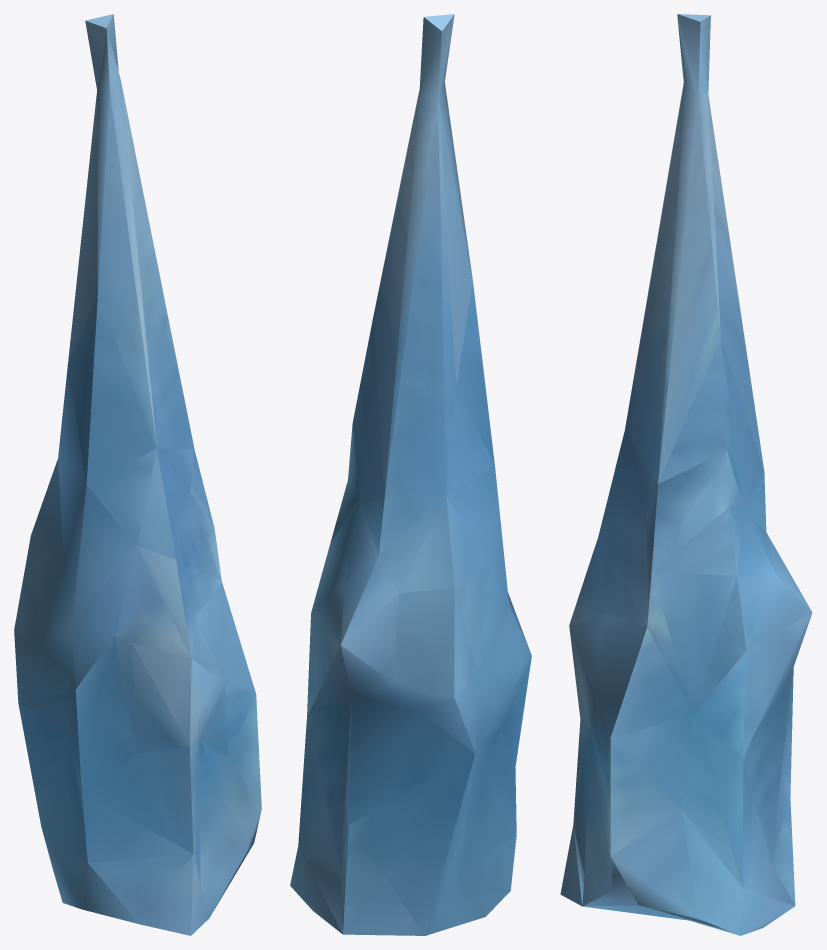
File: pincho_escarcha_1.glb
3 renders of one model, left to right at view 1: azimuth 30°, elevation 25°; view 2: azimuth 150°, elevation 25°; view 3: azimuth 270°, elevation 25°, orthographic. The views are drawn at different scales.
Parts seen in each view (by area): view 1: pincho_escarcha_1_malla; view 2: pincho_escarcha_1_malla; view 3: pincho_escarcha_1_malla.
Boxes of the visible parts, <box> form: pincho_escarcha_1_malla: <box>14,14,261,935</box>; pincho_escarcha_1_malla: <box>290,14,531,935</box>; pincho_escarcha_1_malla: <box>560,14,812,935</box>.
Size of the model in its own units: 0.0385 by 0.1701 by 0.0447.
1 material, 1 textured.
